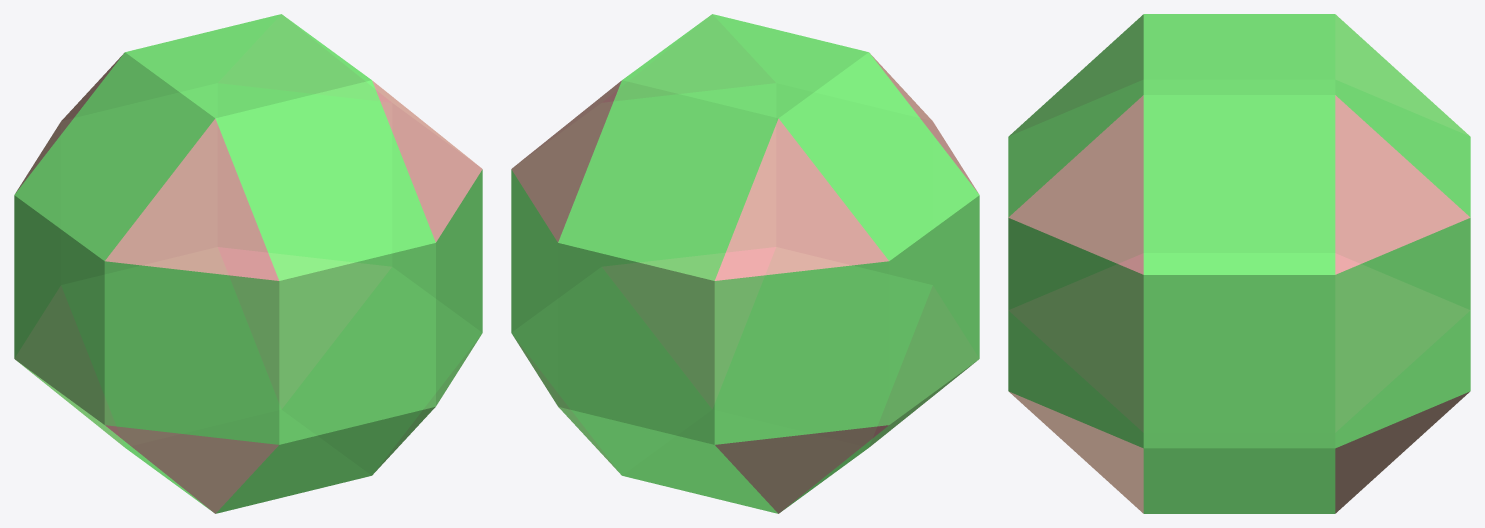
Rendered from Rhombicuboctahedron.obj.
3 renders of one model, left to right at view 1: azimuth 30°, elevation 25°; view 2: azimuth 150°, elevation 25°; view 3: azimuth 270°, elevation 25°, orthographic. The views are drawn at different scales.
Size of the model in its own units: 2.41 by 2.41 by 2.41.
